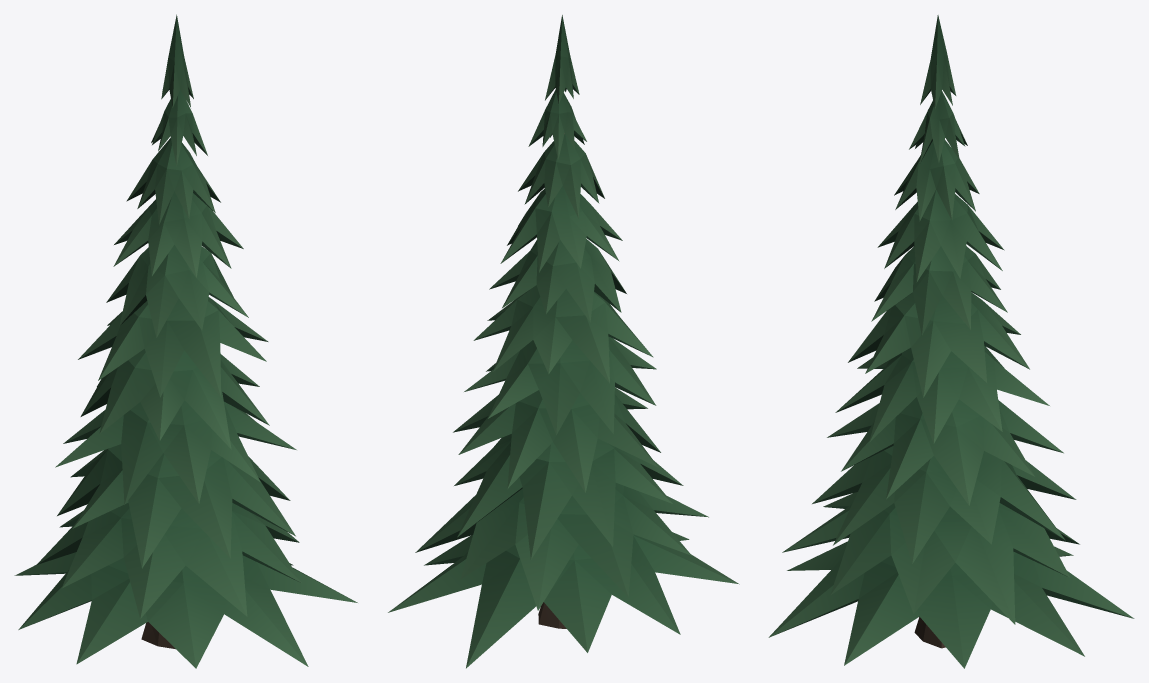
Rendered from spruce_tree_01.glb.
3 views of the same model, side by side, from view 1: azimuth 30°, elevation 25°; view 2: azimuth 150°, elevation 25°; view 3: azimuth 270°, elevation 25° (orthographic). The views are drawn at different scales.
Parts seen in each view (by area): view 1: spruce_tree_01_foliage; view 2: spruce_tree_01_foliage; view 3: spruce_tree_01_foliage.
Part boxes in pixels (x1,y1,x2,y2): spruce_tree_01_foliage: [14, 14, 357, 668]; spruce_tree_01_foliage: [388, 15, 739, 668]; spruce_tree_01_foliage: [768, 15, 1134, 668].
Size of the model in its own units: 4.8 by 10.35 by 5.52.
